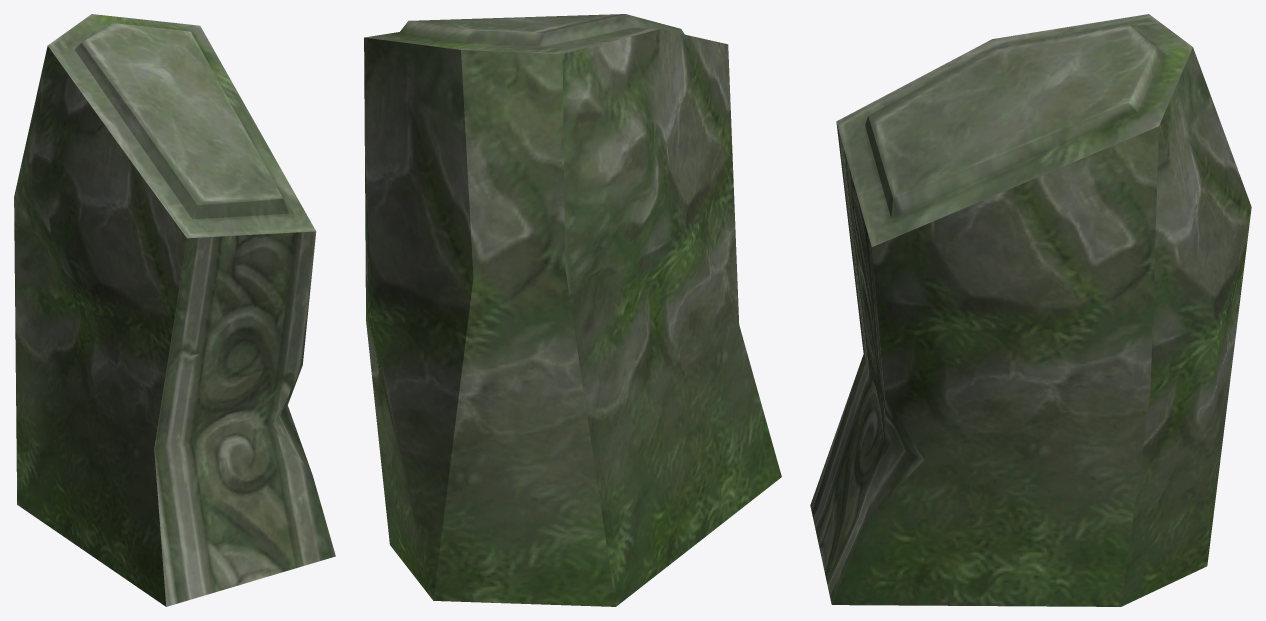
File: 1005_Item_shibei_3.FBX
3 views of the same model, side by side, from view 1: azimuth 30°, elevation 25°; view 2: azimuth 150°, elevation 25°; view 3: azimuth 270°, elevation 25° (orthographic). The views are drawn at different scales.
Visible parts, largest first — view 1: 1005_Item_shibei_3; view 2: 1005_Item_shibei_3; view 3: 1005_Item_shibei_3.
Boxes of the visible parts, <box> form: 1005_Item_shibei_3: <box>14,14,335,606</box>; 1005_Item_shibei_3: <box>364,14,781,606</box>; 1005_Item_shibei_3: <box>810,14,1251,606</box>.
Size of the model in its own units: 189 by 286 by 367.
1 material, 1 textured.
